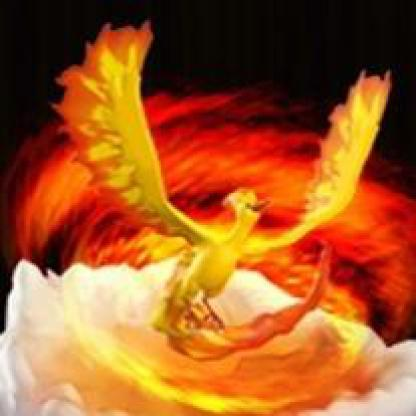Moltres: (1, 1, 415, 415)
